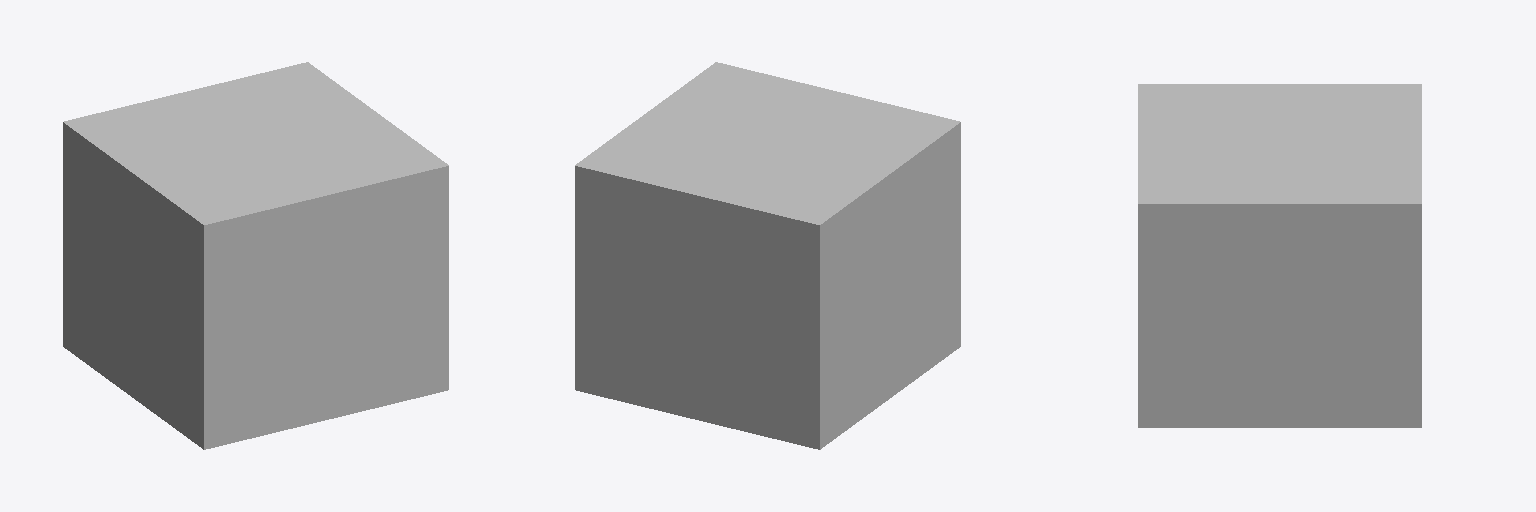
The model's file is slime.obj.
The picture shows the model from 3 angles: view 1: azimuth 30°, elevation 25°; view 2: azimuth 150°, elevation 25°; view 3: azimuth 270°, elevation 25°; orthographic projection.
Visible parts, largest first — view 1: object 1; view 2: object 1; view 3: object 1.
Boxes of the visible parts, x1,y1,x2,y2 form: object 1: [63, 62, 448, 449]; object 1: [575, 62, 960, 449]; object 1: [1138, 84, 1421, 427].
Size of the model in its own units: 3.2 by 2.8 by 3.2.